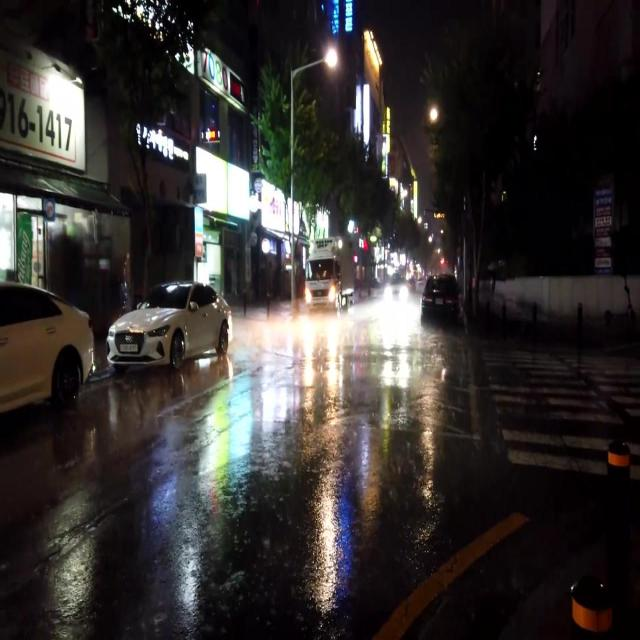Car: (105, 281, 231, 369), (419, 274, 460, 322), (379, 275, 412, 309)
